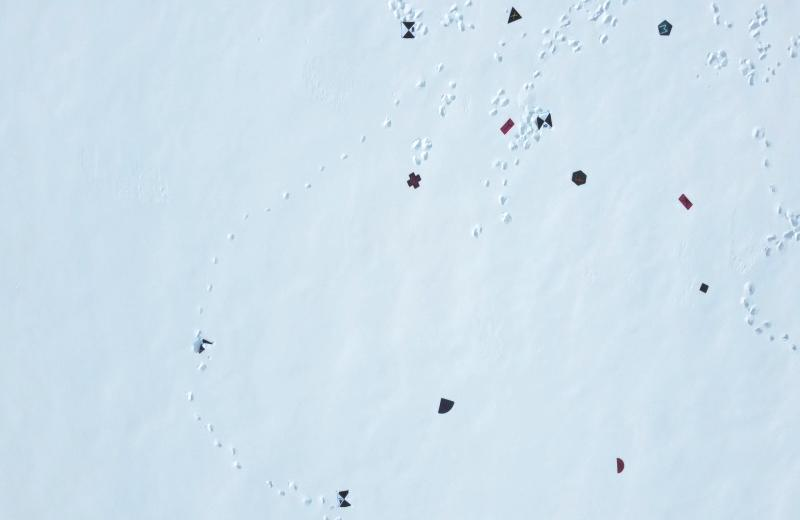Cross: (406, 172, 422, 190)
Hexagon: (571, 169, 588, 187)
Pentagon: (657, 19, 674, 37)
Quarter Circle: (438, 396, 454, 415)
Rectangle: (499, 117, 515, 136), (678, 193, 694, 211)
Semi Circle: (616, 456, 626, 474)
Square: (700, 282, 710, 292)
Triangle: (506, 5, 522, 26)
